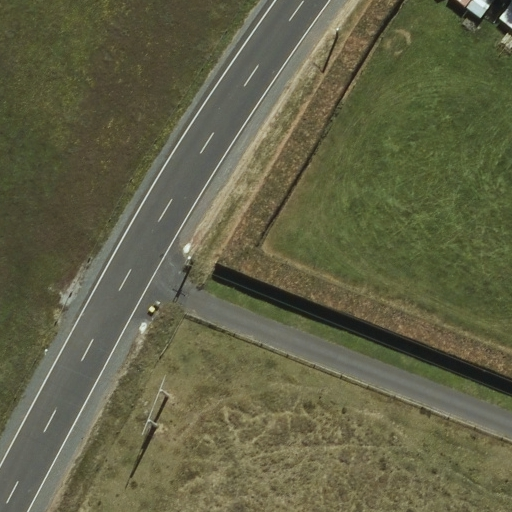DT: (132, 364, 190, 446), (175, 237, 212, 284), (324, 19, 351, 54)
